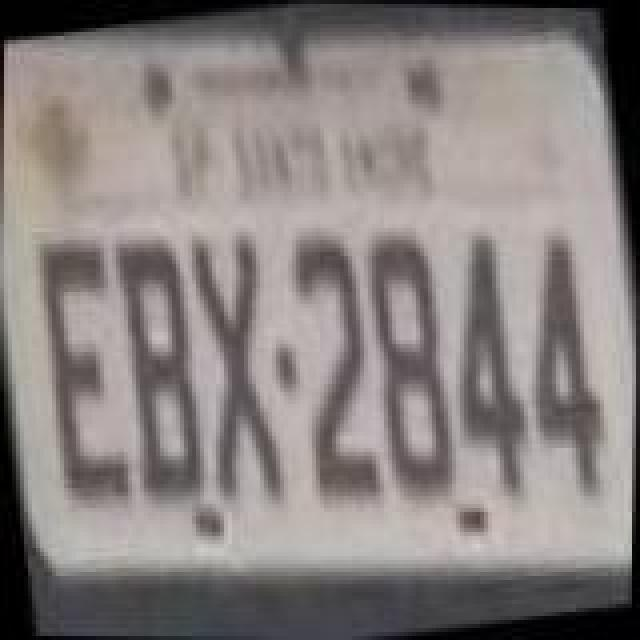2: (276, 224, 392, 516)
4: (508, 228, 624, 508), (428, 224, 544, 496)
8: (354, 216, 474, 512)
B: (104, 228, 220, 512)
E: (28, 230, 144, 514)
X: (176, 222, 300, 514)
